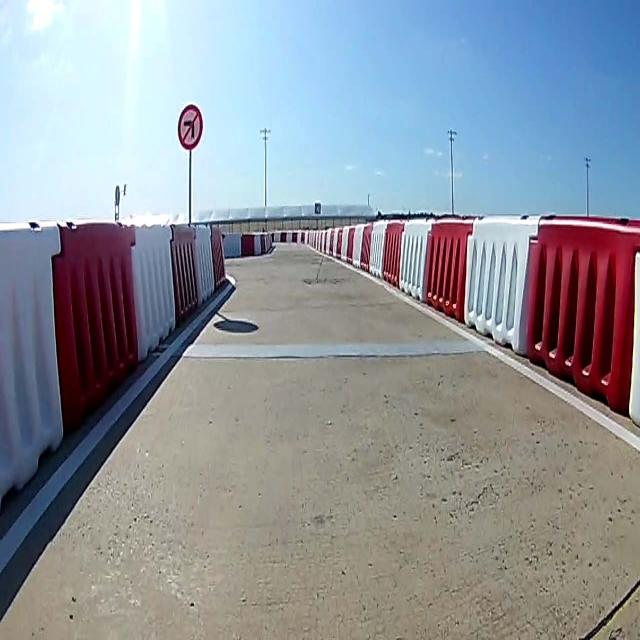soladonulmez: (177, 102, 205, 153)
